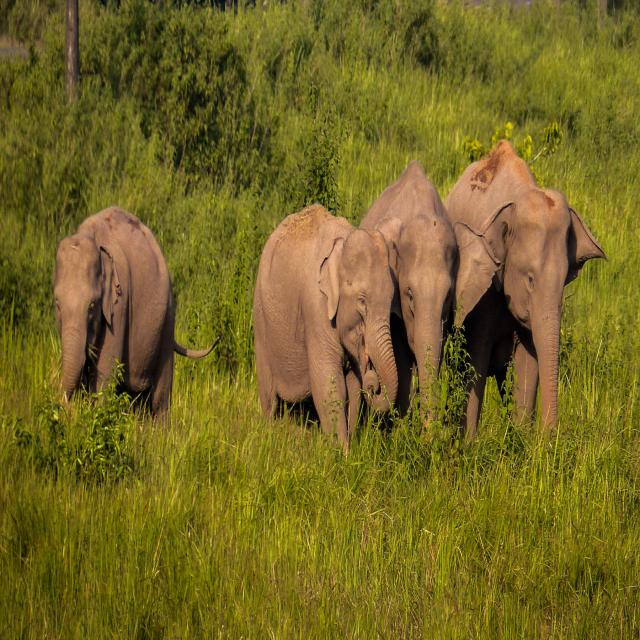Elephant: (438, 136, 608, 447), (52, 206, 215, 433), (252, 203, 398, 443), (363, 147, 463, 455)
